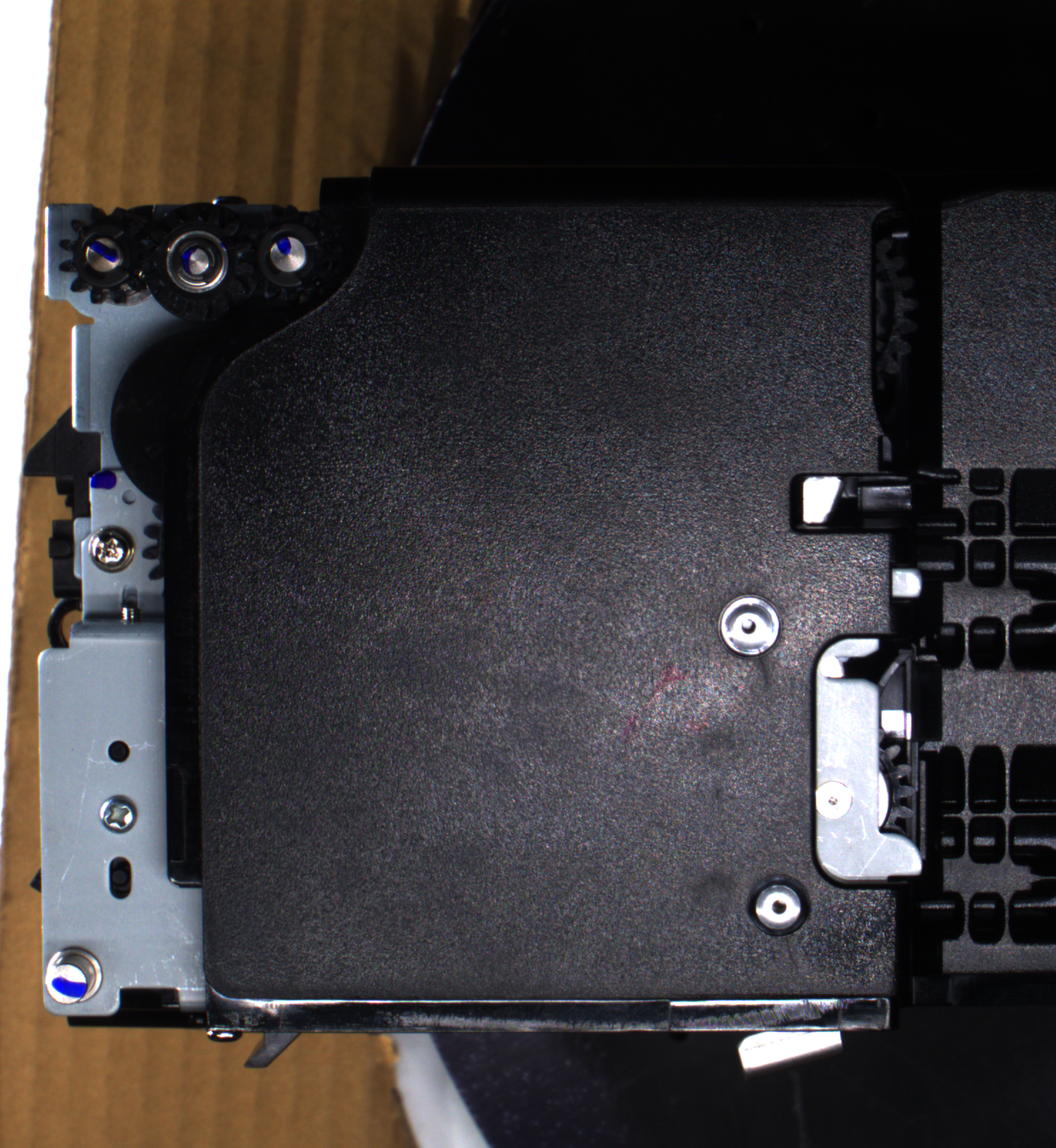centre_pin_presence: (731, 1015, 851, 1079)
centre_plate_presence: (803, 628, 935, 893)
centre_screw_presence: (713, 588, 786, 665), (741, 867, 814, 941)
gear1_presence: (57, 204, 159, 309)
gear2_presence: (143, 201, 254, 323)
gear3_presence: (236, 204, 338, 306)
side_screw_presence: (85, 523, 137, 574), (96, 793, 141, 835)
slanting_pin_presence: (39, 942, 111, 1014)
